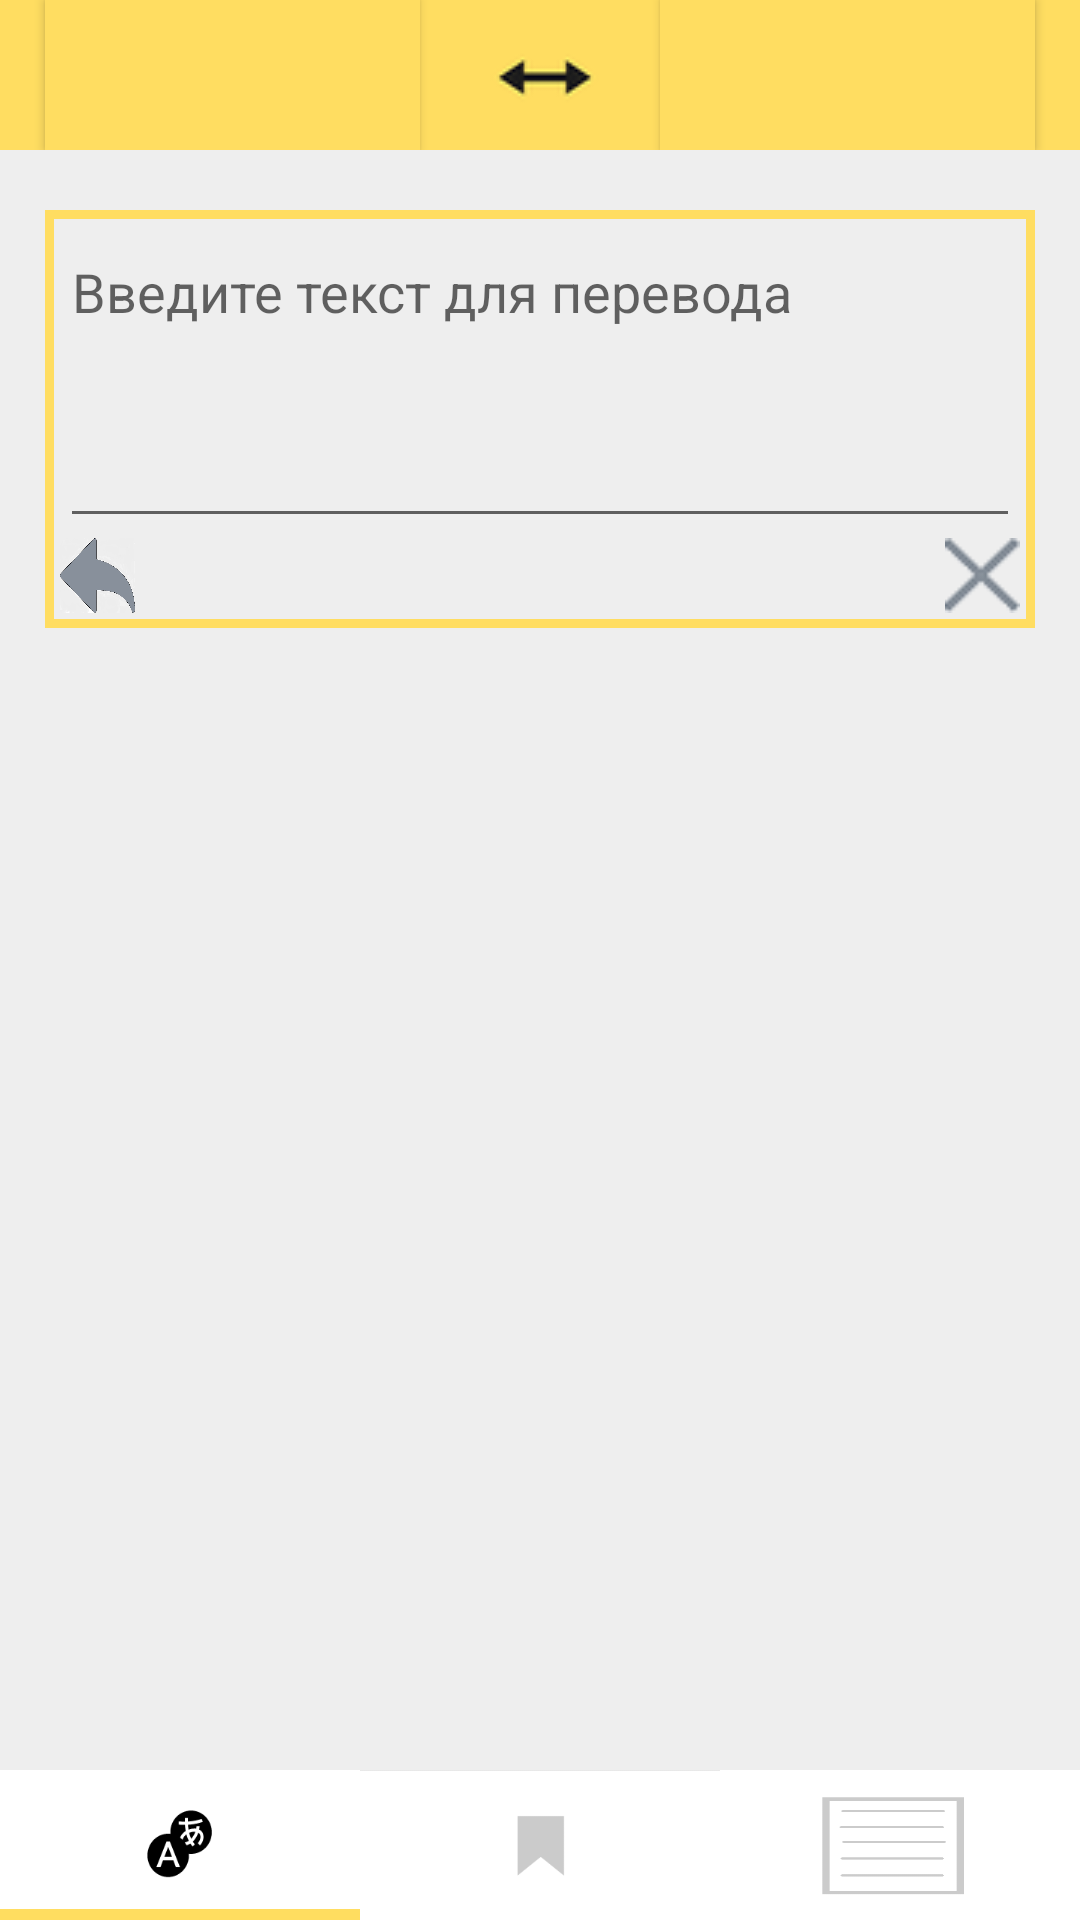

Named icons in this screenshot (1080x1920) and their bounding boxes, (x1, y1, x2, y2):
back: (60, 538, 135, 613)
change: (499, 59, 591, 95)
disablefavorite: (518, 1816, 564, 1875)
disablehistory: (822, 1797, 964, 1894)
erase: (945, 538, 1020, 613)
